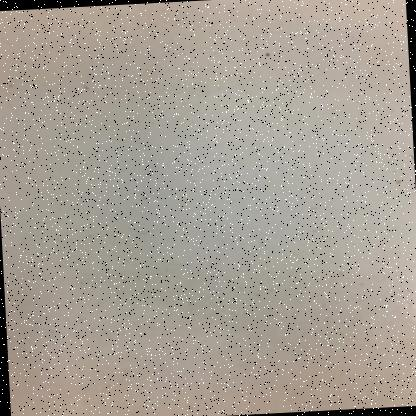Nocrack: (10, 1, 408, 406)
